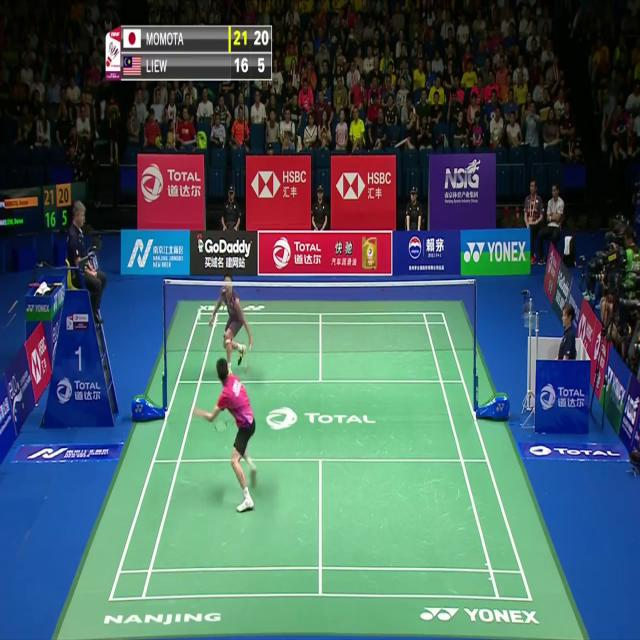Shuttlecock: (196, 307, 202, 319)
